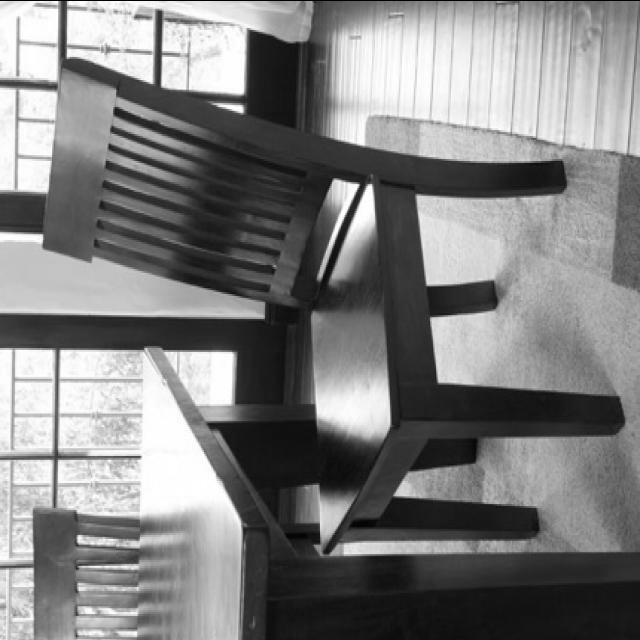chair: (40, 53, 623, 550)
